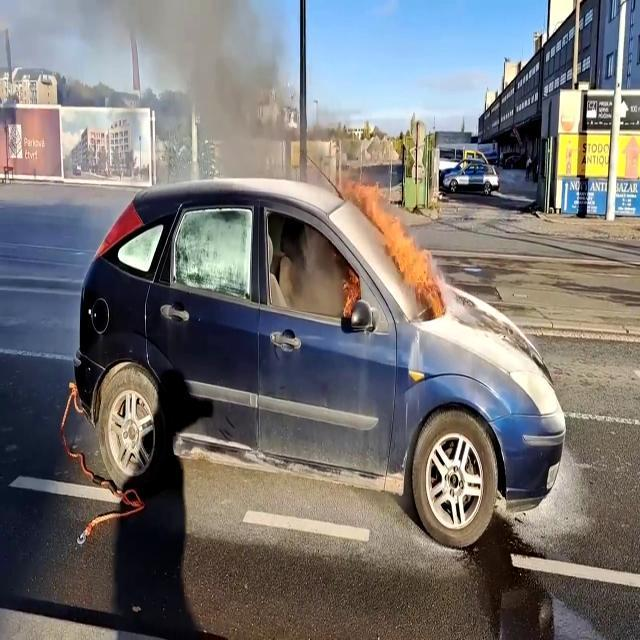Fire: (380, 206, 438, 306)
Smoke: (102, 0, 367, 204)
